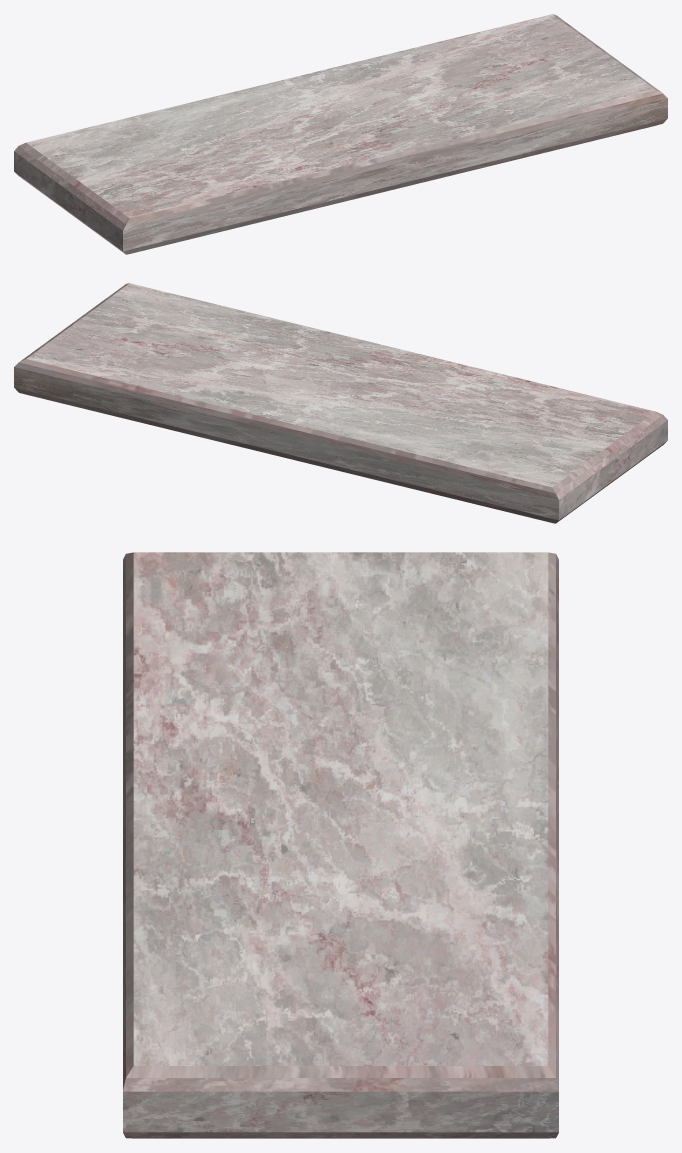
The model's file is Countertop_Kitchen_Marble.fbx.
3 renders of one model, top to bottom at view 1: azimuth 30°, elevation 25°; view 2: azimuth 150°, elevation 25°; view 3: azimuth 270°, elevation 25°, orthographic. The views are drawn at different scales.
Parts seen in each view (by area): view 1: Dining_Table2; view 2: Dining_Table2; view 3: Dining_Table2.
Boxes of the visible parts, bbox=[...] form: Dining_Table2: bbox=[14, 14, 667, 254]; Dining_Table2: bbox=[14, 283, 667, 523]; Dining_Table2: bbox=[123, 552, 558, 1138].
Size of the model in its own units: 274 by 17.73 by 94.86.
